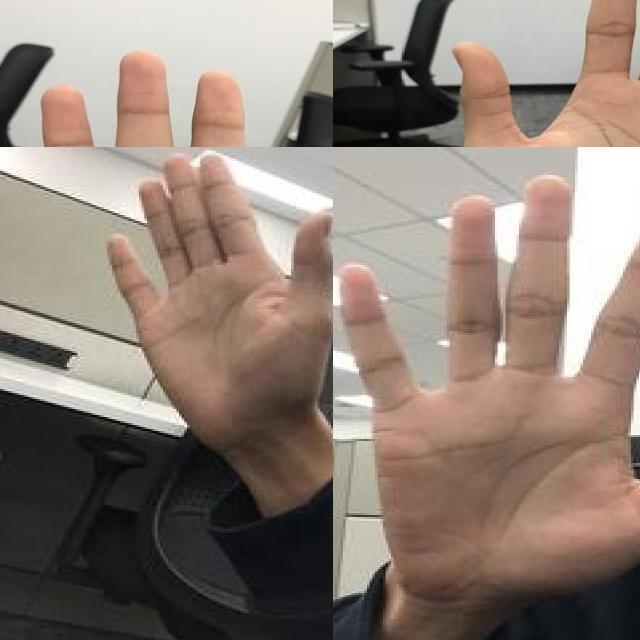hand: (333, 165, 640, 615), (107, 149, 333, 431), (0, 49, 333, 147), (446, 0, 640, 147)
